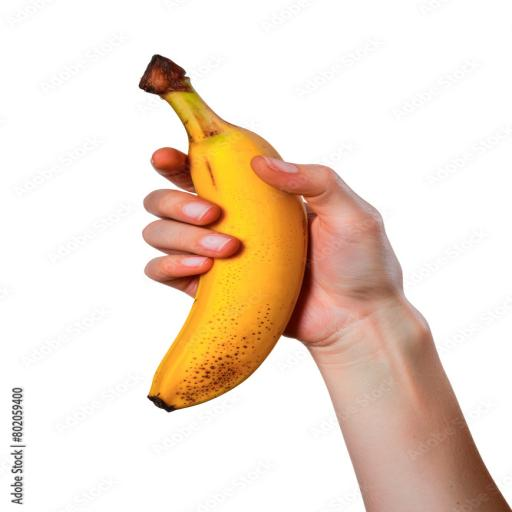banana: (140, 55, 307, 411)
